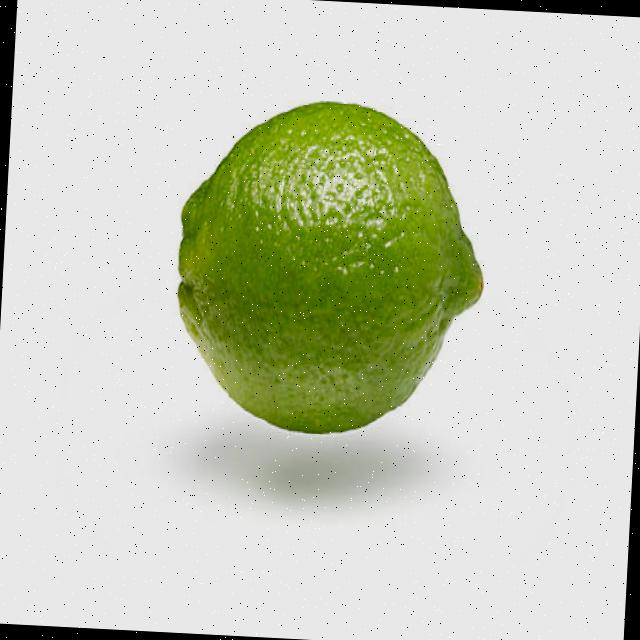Unripe: (167, 91, 491, 441)
